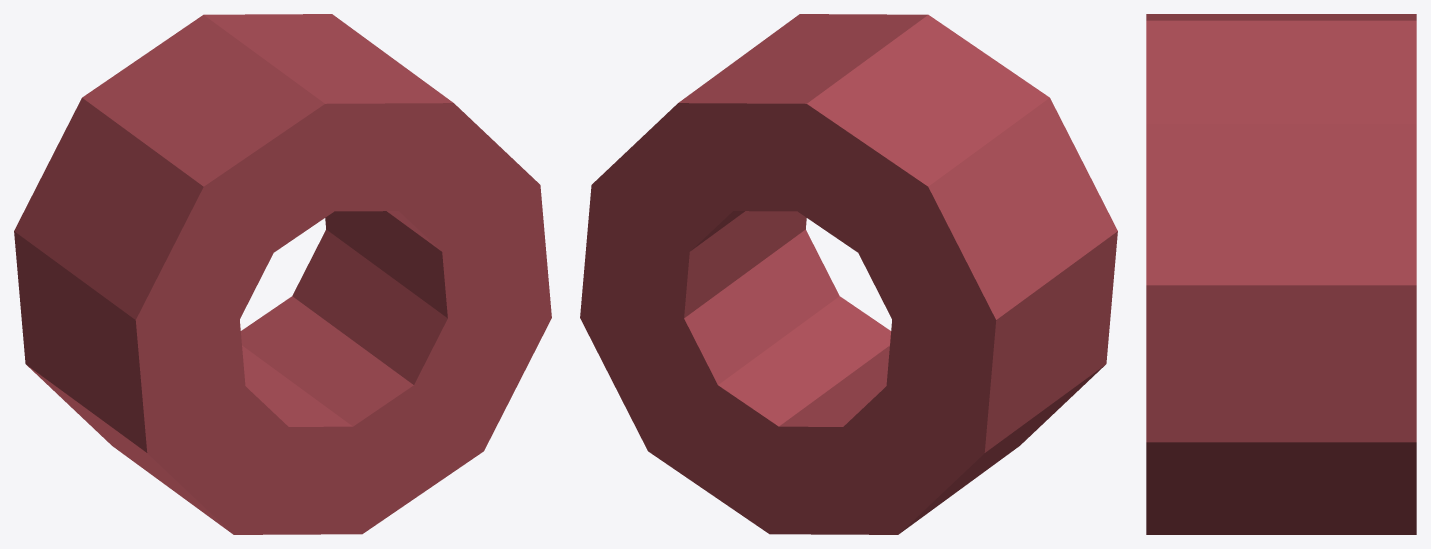
The model's file is wheel1.glb.
3 views of the same model, side by side, from view 1: azimuth 30°, elevation 25°; view 2: azimuth 150°, elevation 25°; view 3: azimuth 270°, elevation 25° (orthographic). The views are drawn at different scales.
Visible parts, largest first — view 1: Mesh_Mesh_head_geo.001_lambert2SG.001; view 2: Mesh_Mesh_head_geo.001_lambert2SG.001; view 3: Mesh_Mesh_head_geo.001_lambert2SG.001.
Boxes of the visible parts, x1,y1,x2,y2 form: Mesh_Mesh_head_geo.001_lambert2SG.001: [14, 14, 551, 534]; Mesh_Mesh_head_geo.001_lambert2SG.001: [580, 14, 1117, 534]; Mesh_Mesh_head_geo.001_lambert2SG.001: [1146, 14, 1416, 534].
Bounding box in the file's own units: 0.00395 × 0.00398 × 0.002.
